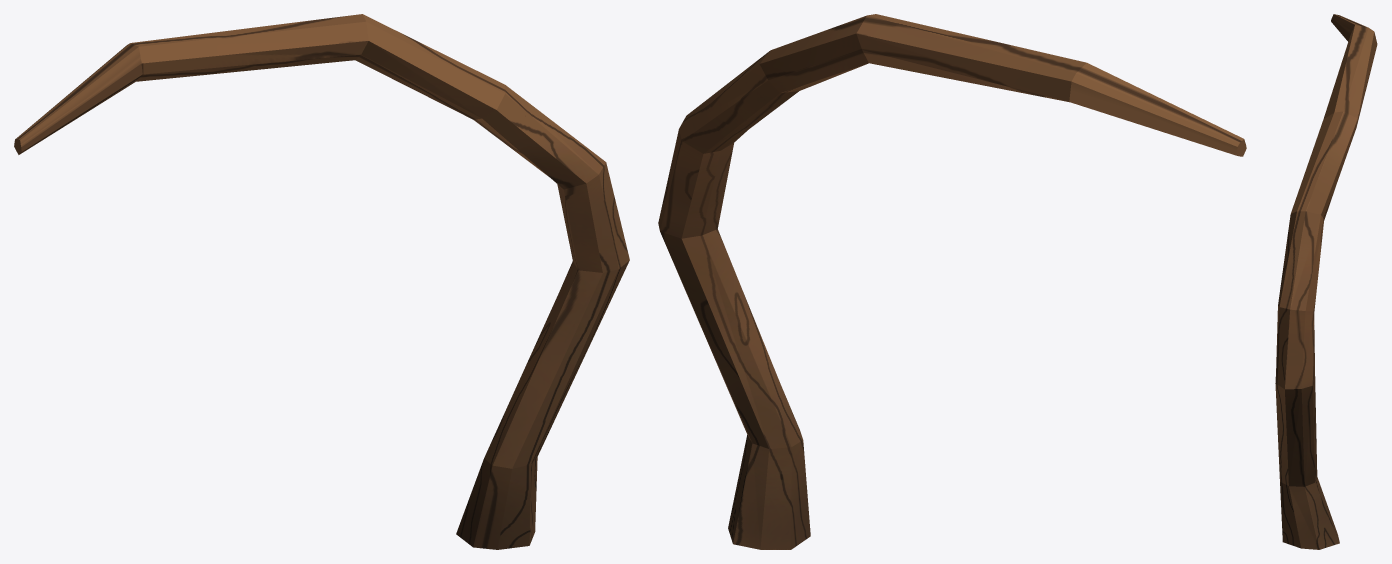
Rendered from Branch-Curve-1.fbx.
3 renders of one model, left to right at view 1: azimuth 30°, elevation 25°; view 2: azimuth 150°, elevation 25°; view 3: azimuth 270°, elevation 25°, orthographic. The views are drawn at different scales.
Parts seen in each view (by area): view 1: Branch-Curve-1; view 2: Branch-Curve-1; view 3: Branch-Curve-1.
Boxes of the visible parts, bbox=[...] form: Branch-Curve-1: bbox=[14, 14, 629, 549]; Branch-Curve-1: bbox=[658, 14, 1246, 549]; Branch-Curve-1: bbox=[1275, 14, 1377, 549].
Size of the model in its own units: 45.59 by 41.27 by 9.62.
